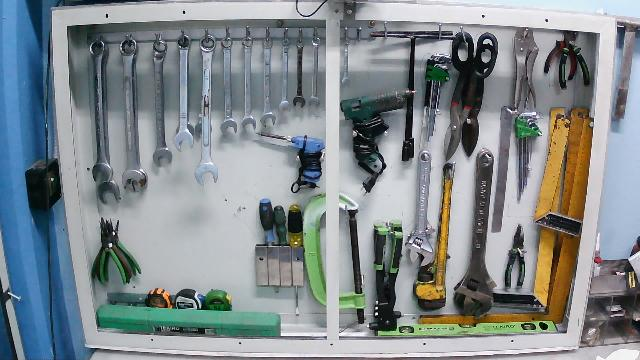meteran: (204, 287, 233, 313)
